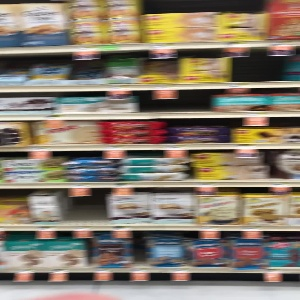void: (136, 88, 216, 114), (234, 47, 288, 85), (62, 187, 107, 227)
